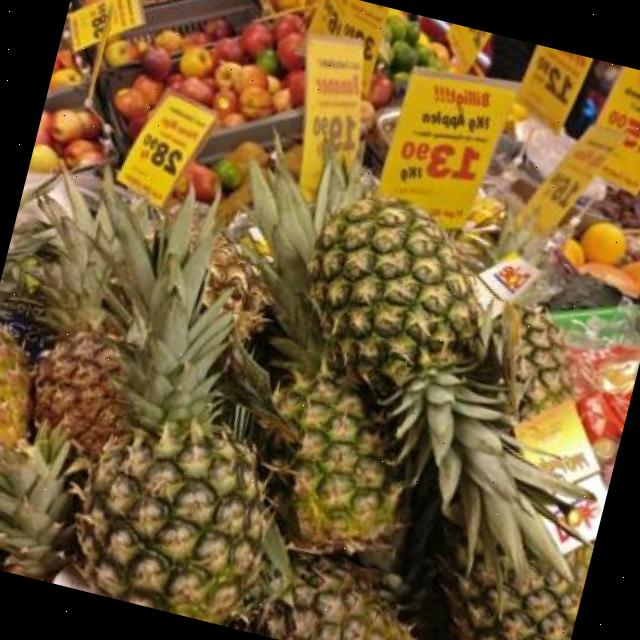pineapple: (315, 199, 569, 575), (77, 238, 270, 625), (233, 166, 401, 542), (32, 220, 122, 458), (257, 553, 416, 640), (0, 425, 85, 581), (442, 564, 580, 640), (507, 306, 571, 419), (0, 331, 25, 448)
